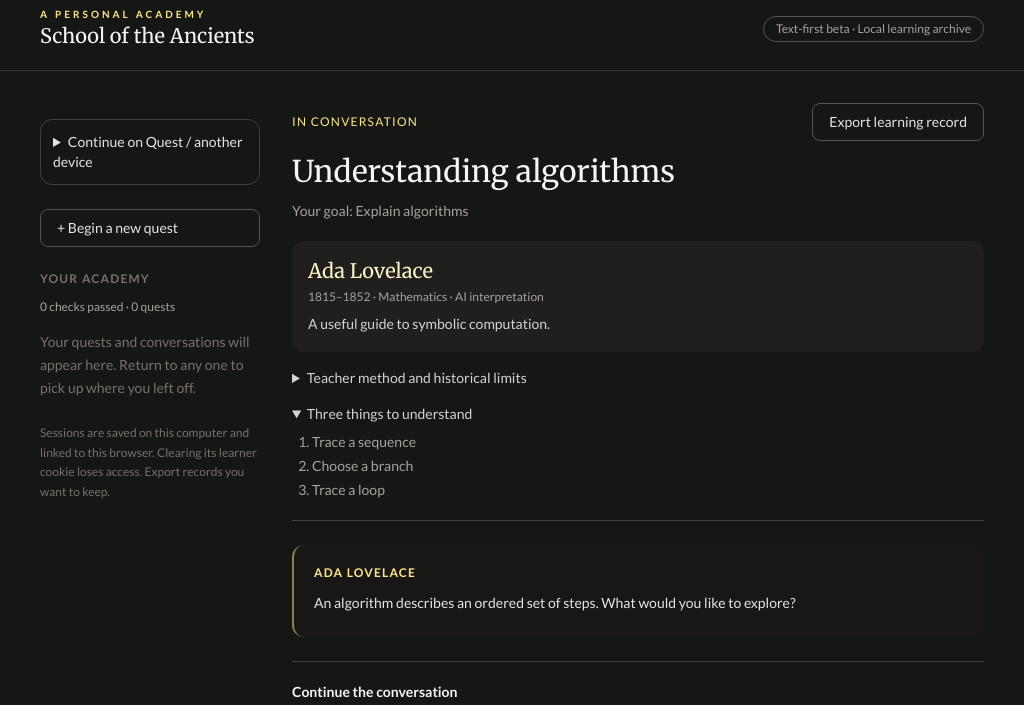
Scenario: does not apply an old preparation poll after moving to a different quest
Click the button "+ Begin a new quest".
click(150, 228)  # box [40,209,260,247]
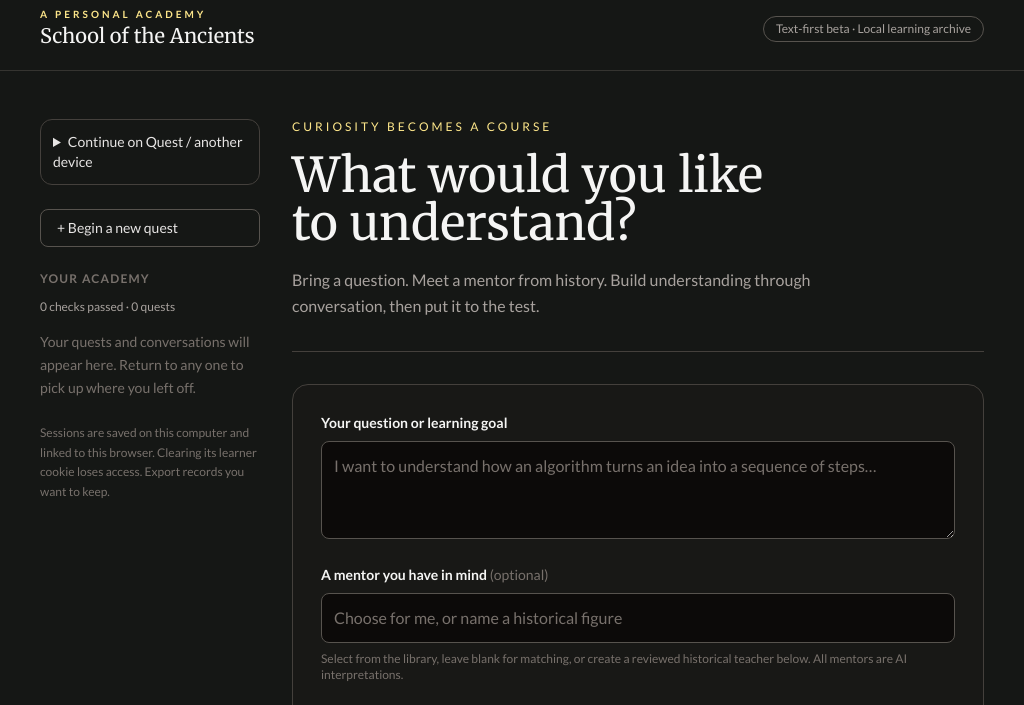
Replace the text in the text box labelled "Your question or learning goal" with "Explore another question" at (638, 490), box [321,441,955,539]
(page scrolled)
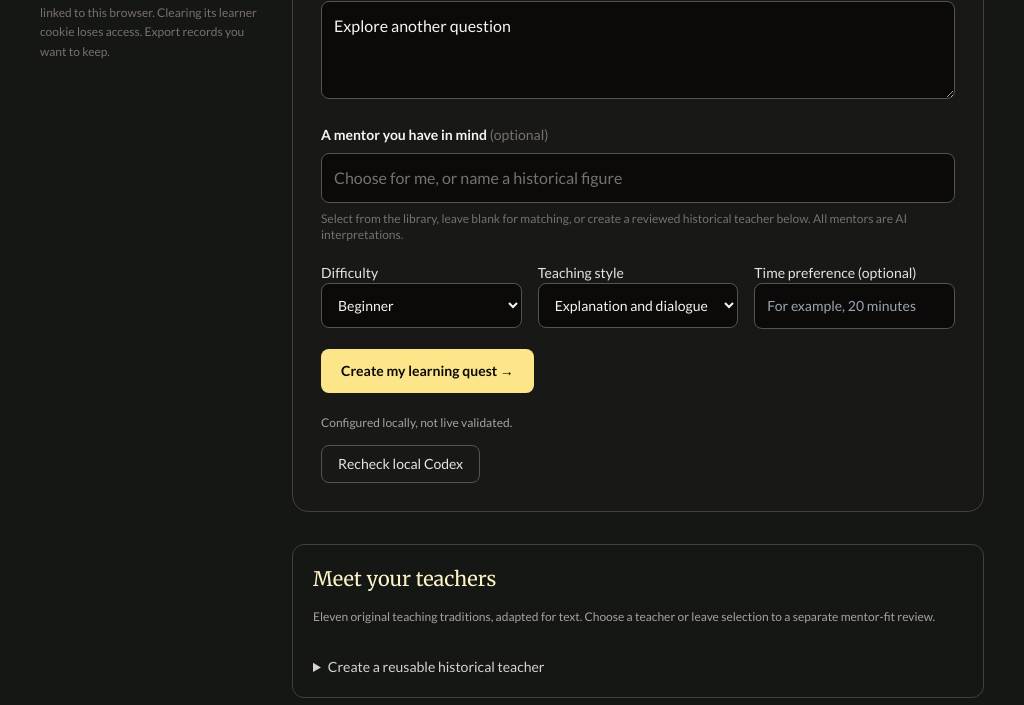
Click the button "Create my learning quest →".
click(427, 371)  # box [321,349,534,393]
(page scrolled)
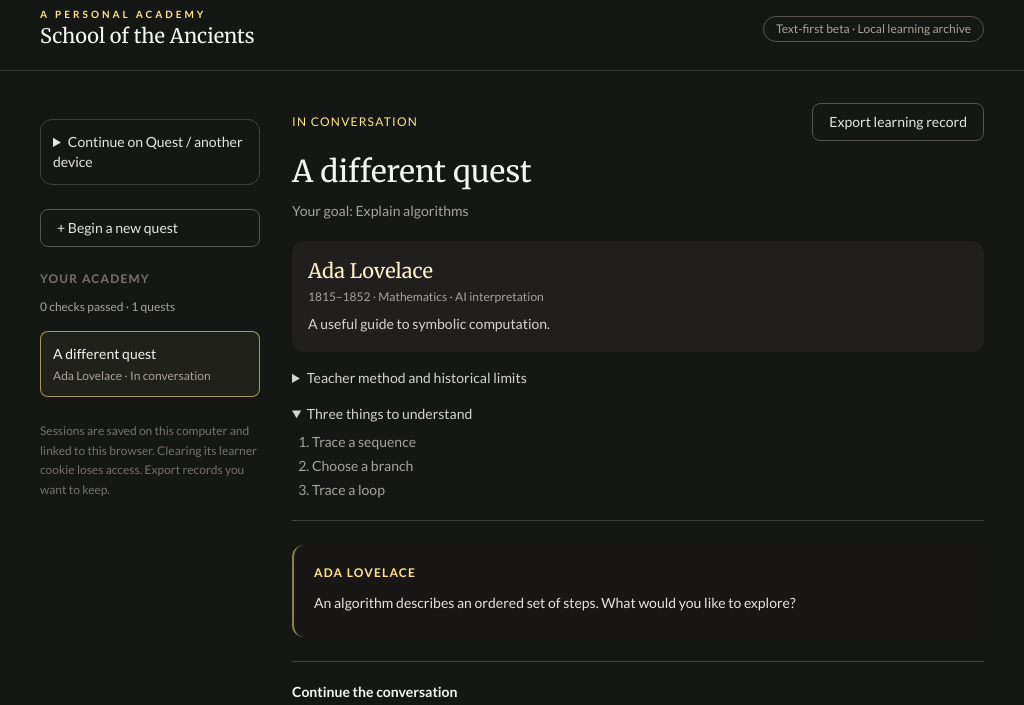
expect the heading "A different quest" is shown: met, box [292,152,532,190]
